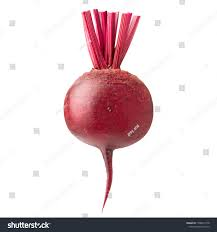beet: (64, 10, 153, 212)
